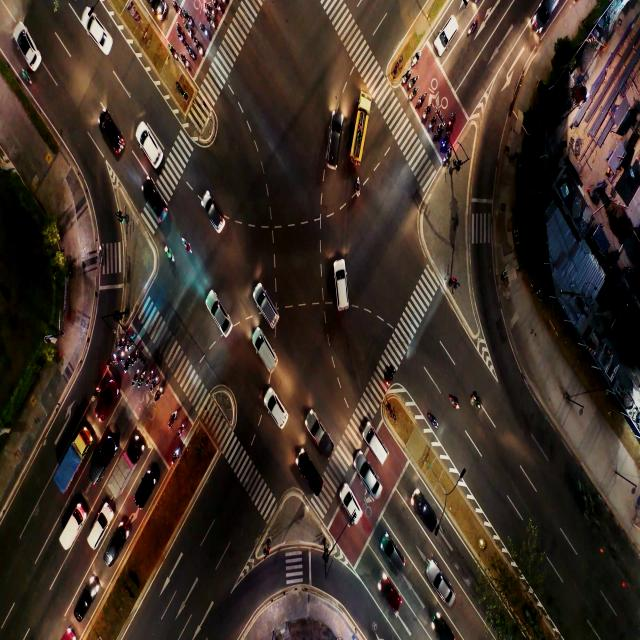bus: (355, 130, 364, 148)
car: (302, 462, 321, 486), (88, 21, 107, 43), (268, 397, 283, 422), (334, 281, 348, 307), (418, 500, 433, 523), (216, 306, 228, 333), (22, 38, 34, 65), (344, 488, 356, 514), (388, 547, 403, 567), (436, 580, 450, 600), (367, 471, 378, 494), (106, 128, 120, 146), (372, 436, 384, 456), (262, 346, 274, 366), (332, 133, 341, 158), (151, 194, 162, 214), (540, 3, 552, 20), (140, 480, 152, 497), (388, 590, 398, 610), (210, 204, 220, 224), (80, 592, 90, 612), (92, 452, 102, 472), (110, 535, 122, 551), (146, 140, 156, 159), (102, 395, 111, 414), (94, 520, 103, 538), (444, 21, 452, 38), (266, 305, 273, 320)
motorcycle: (387, 368, 396, 384), (165, 246, 174, 262), (450, 396, 460, 410), (470, 395, 480, 409), (427, 416, 436, 426), (184, 240, 191, 252), (22, 71, 30, 81), (412, 53, 418, 66), (448, 120, 454, 131), (172, 410, 177, 423), (355, 182, 360, 194), (171, 48, 176, 60), (174, 448, 179, 459), (444, 150, 450, 159), (216, 4, 222, 13), (411, 90, 415, 103), (443, 136, 448, 146), (419, 96, 424, 106), (158, 386, 163, 396), (205, 28, 209, 40), (470, 23, 475, 32), (412, 77, 417, 86), (180, 423, 184, 434), (154, 375, 158, 386), (183, 59, 189, 66), (210, 21, 216, 28), (425, 108, 429, 118), (198, 46, 203, 54), (127, 353, 131, 362), (210, 9, 215, 16), (437, 128, 441, 136), (189, 19, 193, 27), (405, 75, 409, 82), (135, 352, 139, 359), (188, 30, 192, 37), (96, 388, 99, 397), (176, 5, 179, 14), (150, 370, 153, 378), (141, 372, 144, 380), (113, 353, 116, 361), (179, 34, 183, 40), (128, 341, 131, 348), (121, 349, 124, 356), (192, 54, 195, 60), (137, 368, 139, 376), (122, 336, 124, 344), (431, 120, 434, 124)
truck: (121, 449, 130, 482), (318, 428, 328, 447), (67, 521, 74, 543), (65, 455, 71, 475)
